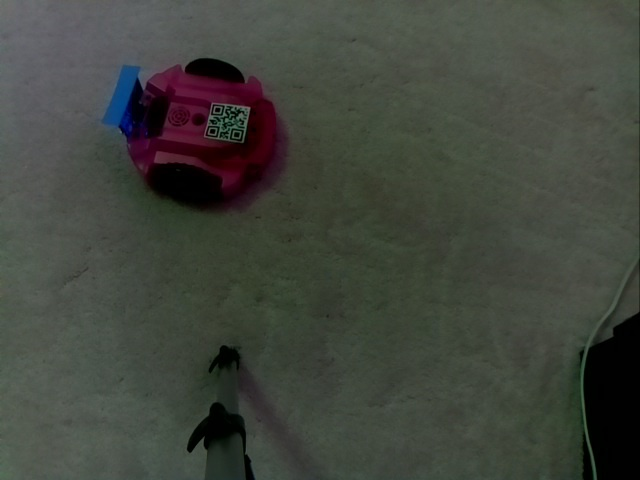chassis: (98, 56, 278, 199)
qr: (205, 100, 252, 148)
